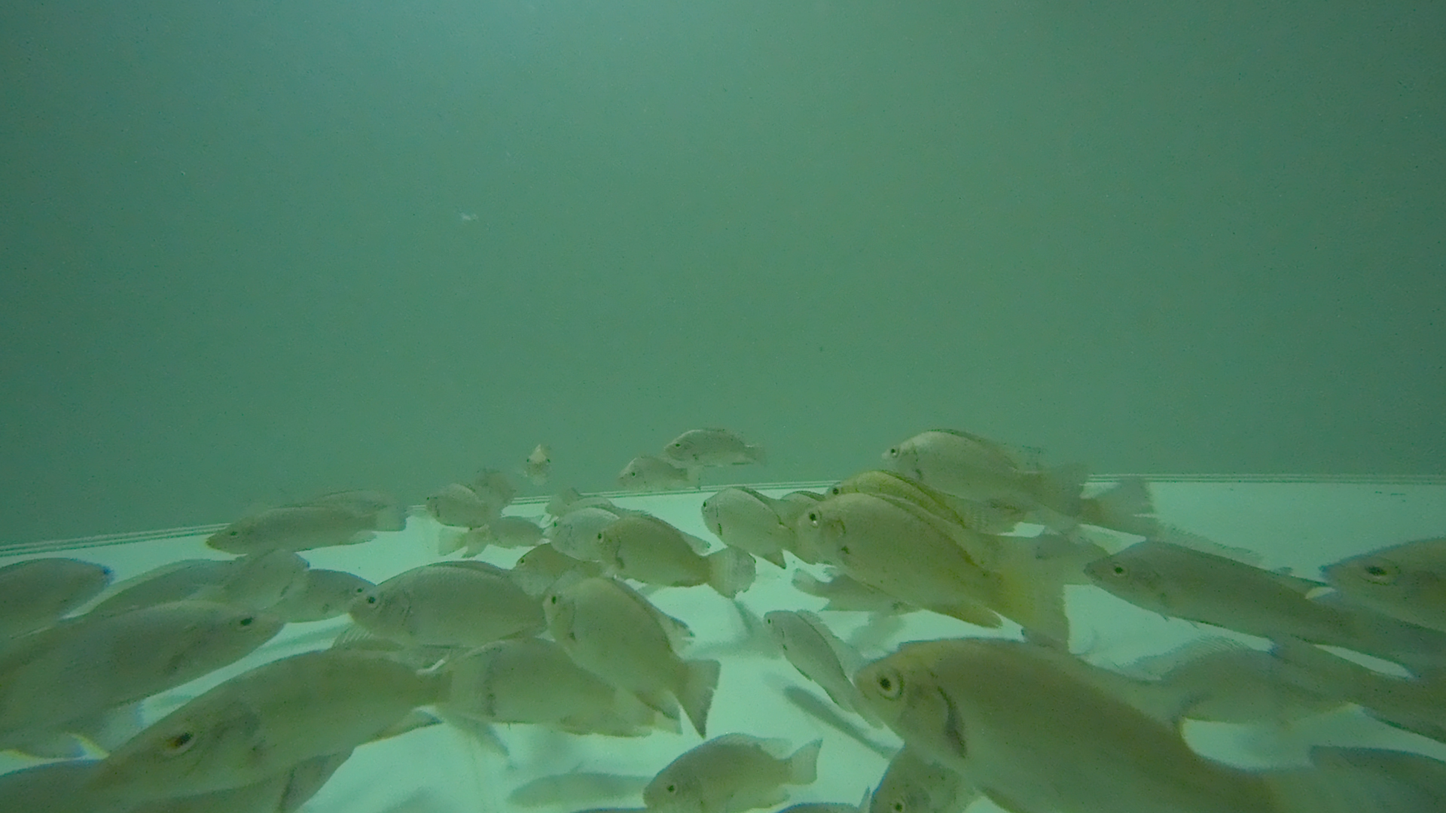fish: (880, 432, 1083, 505), (206, 504, 410, 553)
